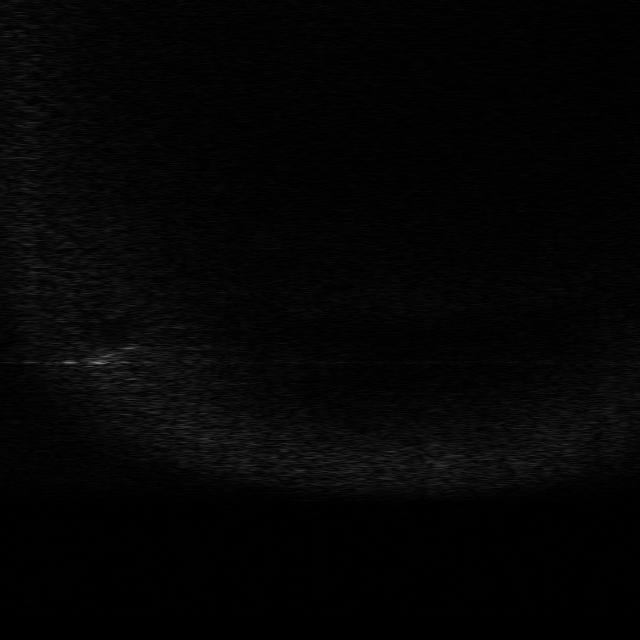plane: (72, 339, 142, 369)
